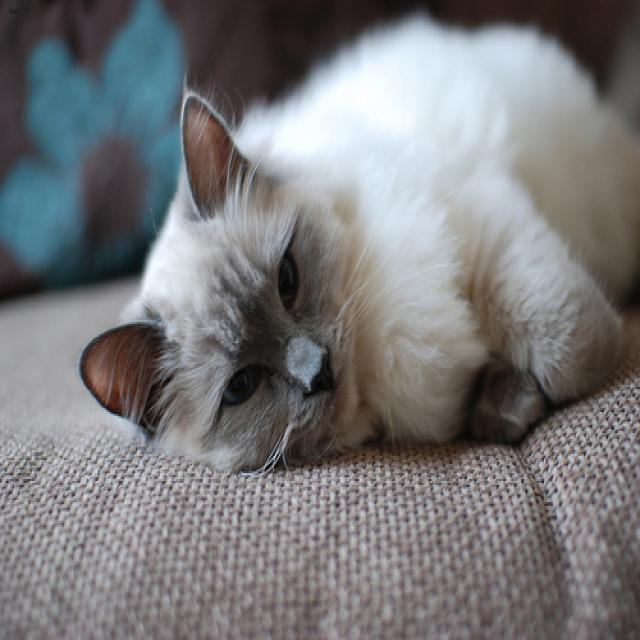Ragdoll: (81, 87, 375, 495)
